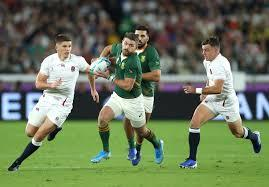ballon_rugby: (87, 56, 112, 77)
